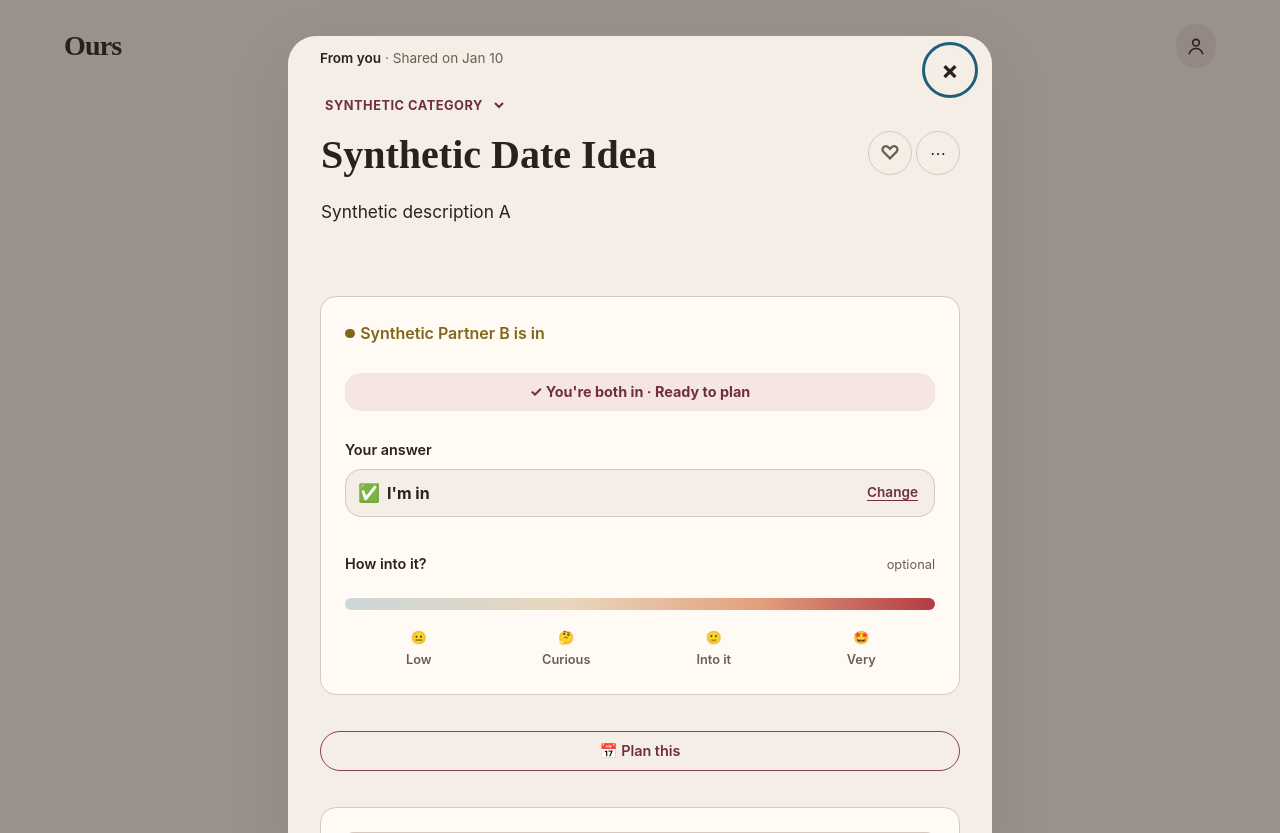
a pick becomes a date › Plan this chooses an agreed idea directly, without the deck
Click the button "📅 Plan this".
click(640, 751)  # box [320, 731, 960, 771]
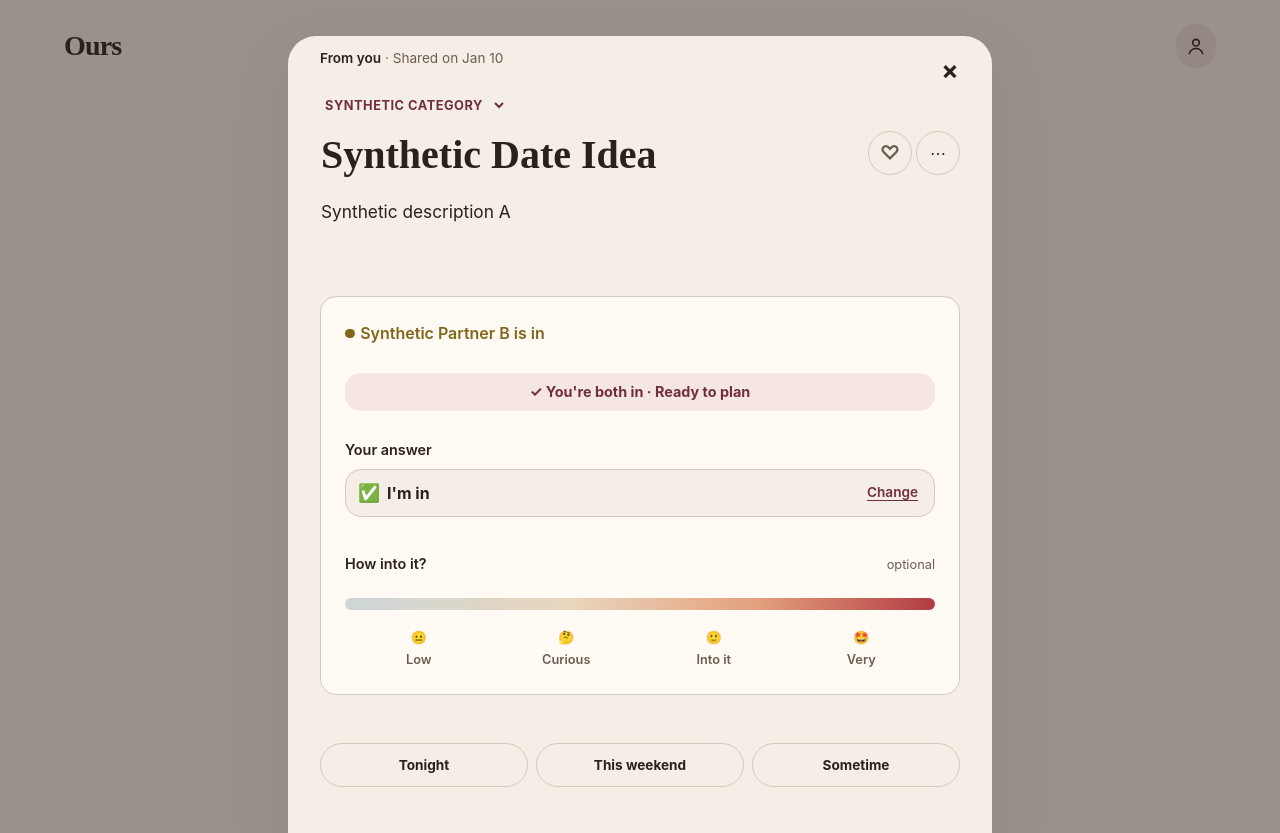
Click the button "Tonight".
click(424, 765)  # box [320, 743, 528, 787]
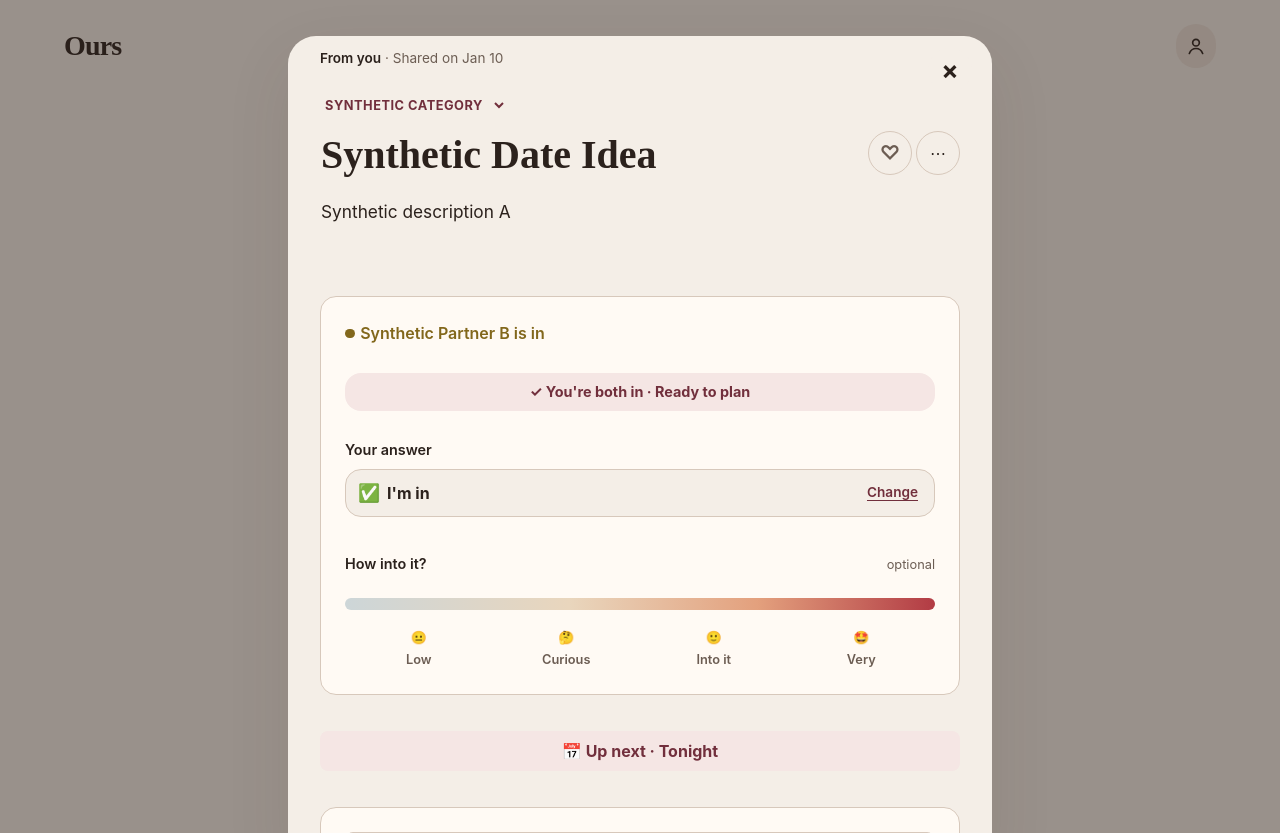
expect the button "Plan this" is not shown: met
expect the text "Up next · Tonight" is shown: met, box [586, 741, 718, 761]
